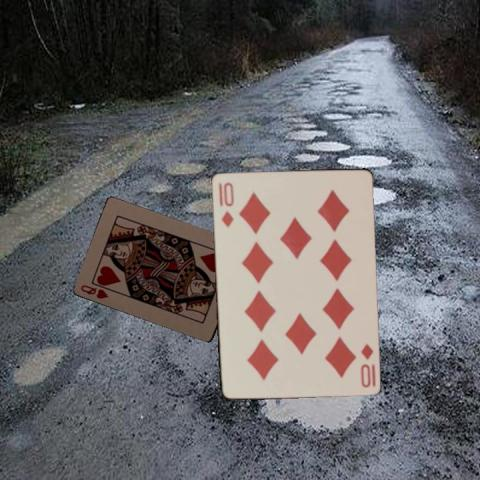10d: (357, 340, 377, 389), (218, 178, 235, 228)
Qh: (78, 281, 110, 300)
